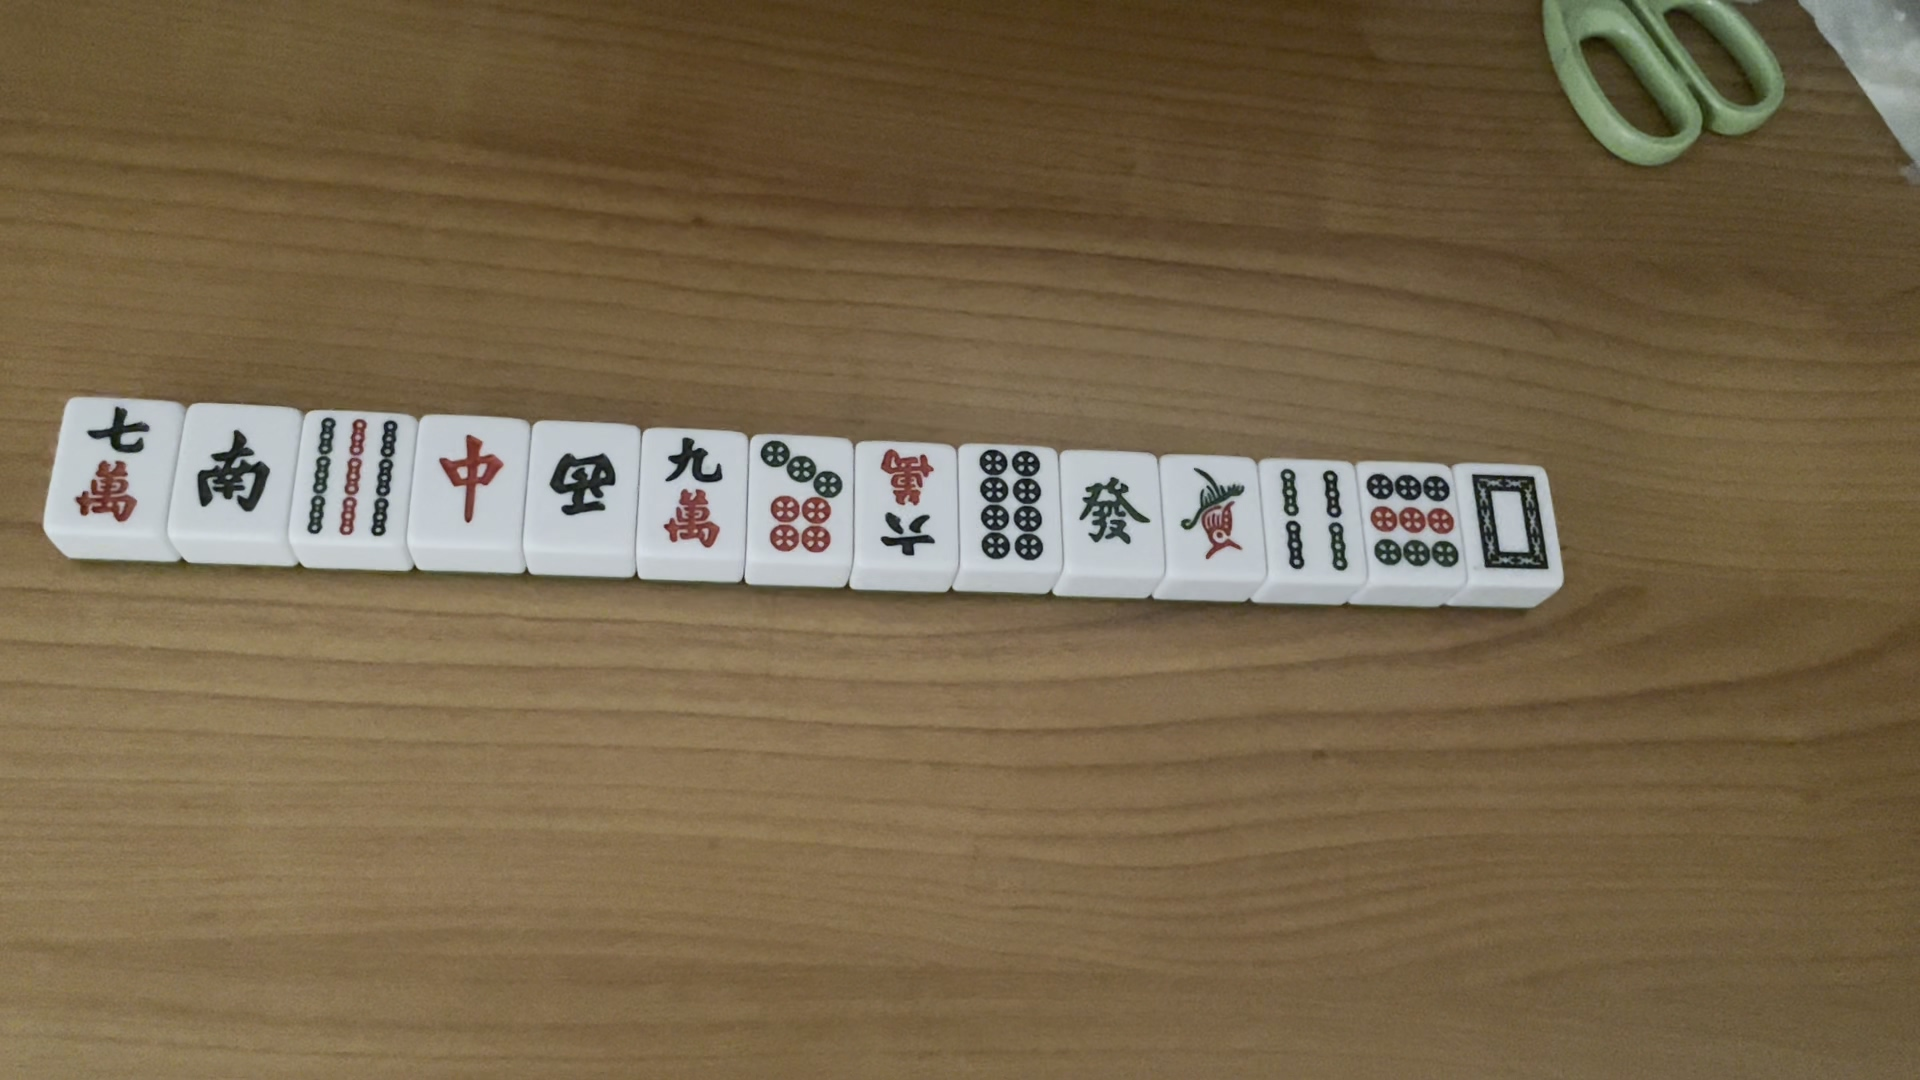b-1: (1174, 456, 1251, 559)
b-4: (1271, 462, 1360, 576)
b-9: (302, 414, 400, 545)
c-6: (857, 440, 942, 553)
c-7: (61, 400, 167, 531)
c-9: (649, 434, 733, 550)
d-7: (749, 435, 847, 554)
d-8: (973, 446, 1052, 560)
d-9: (1364, 464, 1461, 575)
honors-green: (1069, 462, 1155, 554)
honors-red: (425, 422, 502, 531)
honors-south: (177, 422, 274, 517)
honors-west: (539, 440, 618, 521)
honors-white: (1465, 465, 1557, 580)
